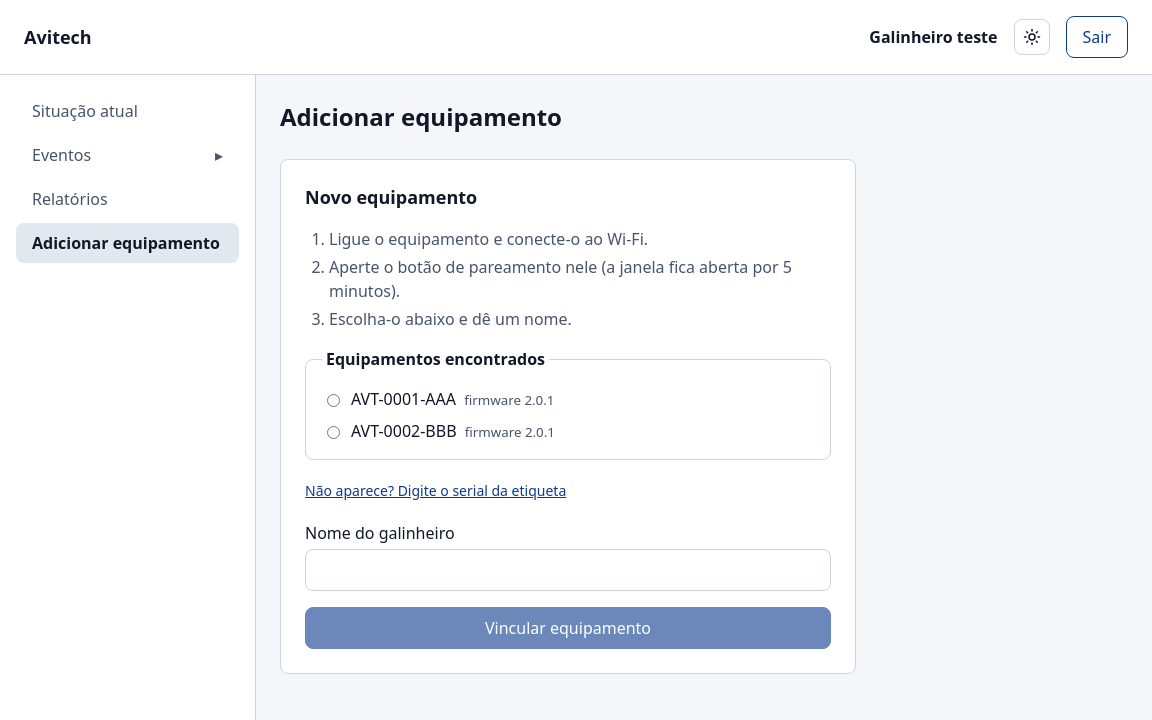
Scenario: Adicionar equipamento (logado) › com vários na rede é preciso escolher um
Expected: the radio button labelled "AVT-0002-BBB firmware 2.0.1" is shown, [327, 426, 340, 439]
Type "Novo" into the field labelled "Nome do galinheiro" at (568, 570), box [305, 549, 831, 591]
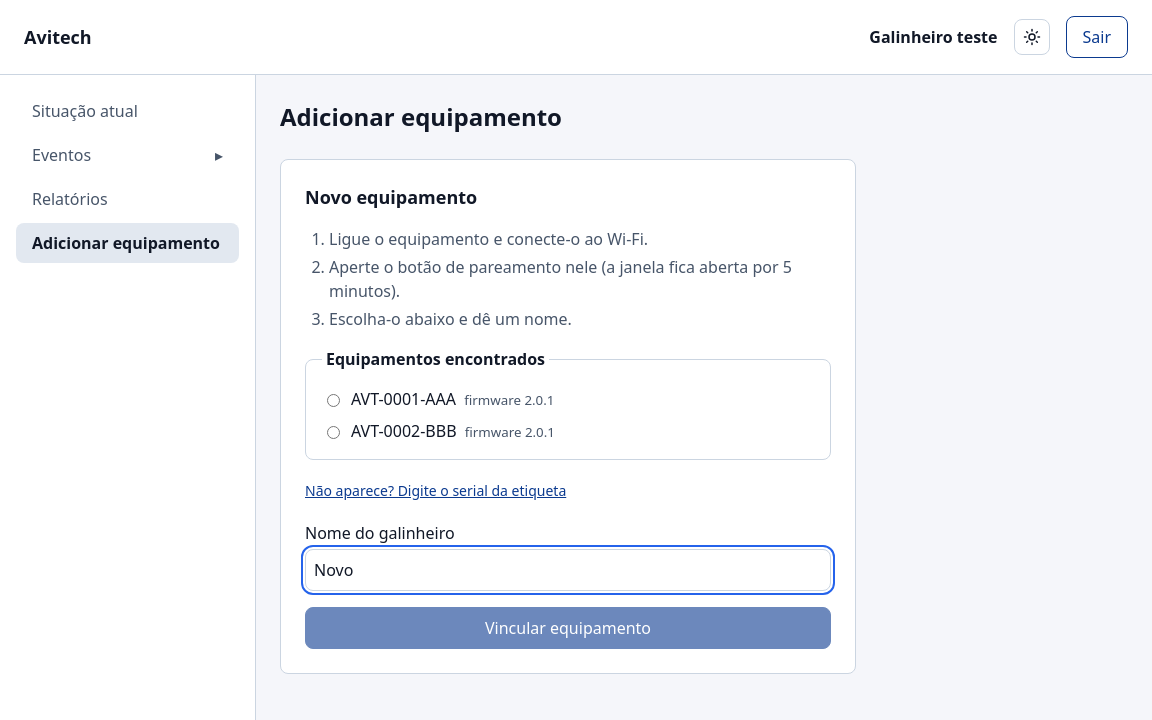
Expected: the button "Vincular equipamento" is disabled, [305, 607, 831, 649]
Click the radio button labelled "AVT-0002-BBB firmware 2.0.1" at (334, 432), box [327, 426, 340, 439]
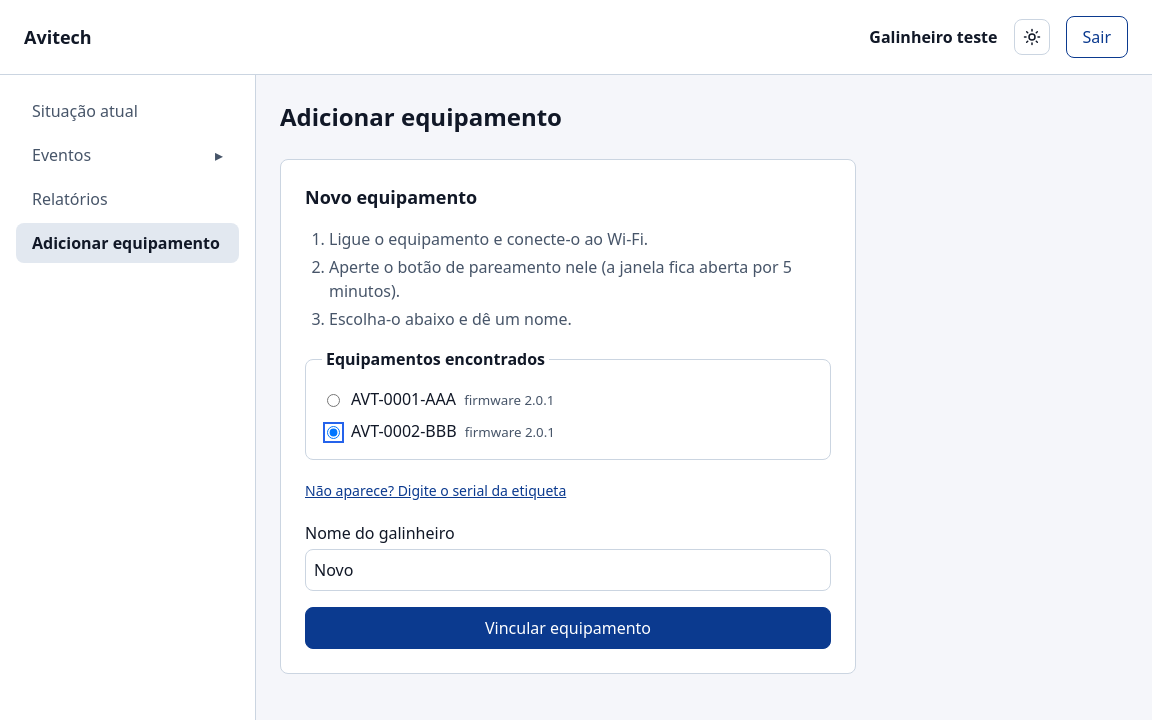
Now the button "Vincular equipamento" is enabled, box [305, 607, 831, 649]
